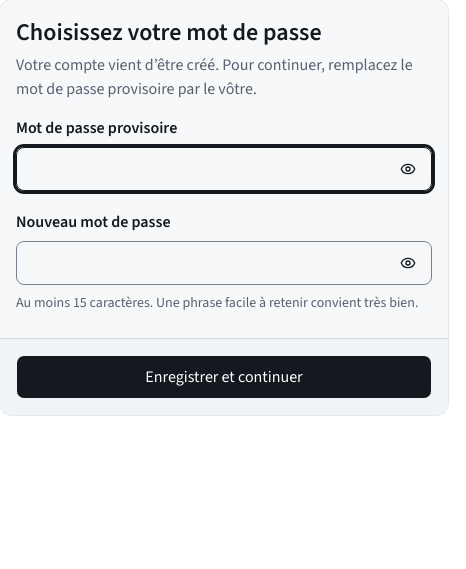
Test case: ChangePasswordForm › shows a too short password with the length the server asked for, at the field and in the summary
Type "provisoire-12345" into the password field labelled "Mot de passe provisoire" at (224, 169), box x1=16 y1=147 x2=432 y2=191
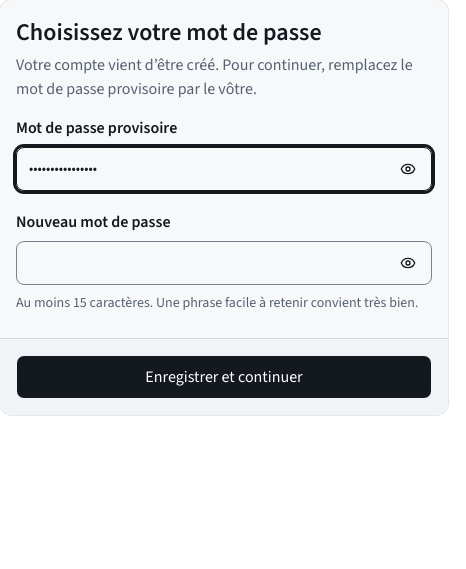
Type "trop court" into the password field labelled "Nouveau mot de passe" at (224, 263), box x1=16 y1=241 x2=432 y2=285
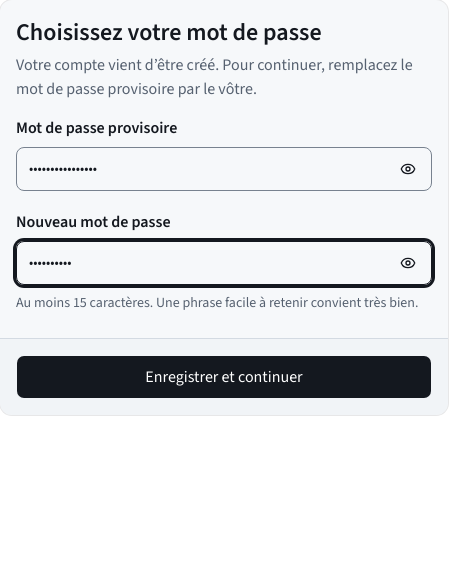
Click the button "Enregistrer et continuer" at (224, 377), box x1=16 y1=355 x2=432 y2=399
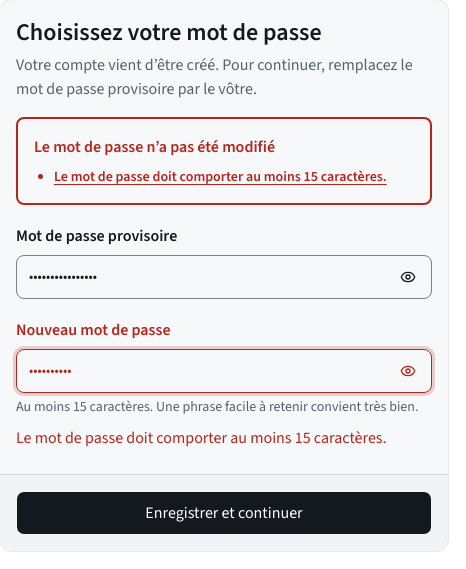
Expected: the message shows "Le mot de passe n’a pas été modifié", x1=34 y1=136 x2=275 y2=158
Expected: the message shows "Le mot de passe doit comporter au moins 15 caractères.", x1=54 y1=167 x2=387 y2=187
